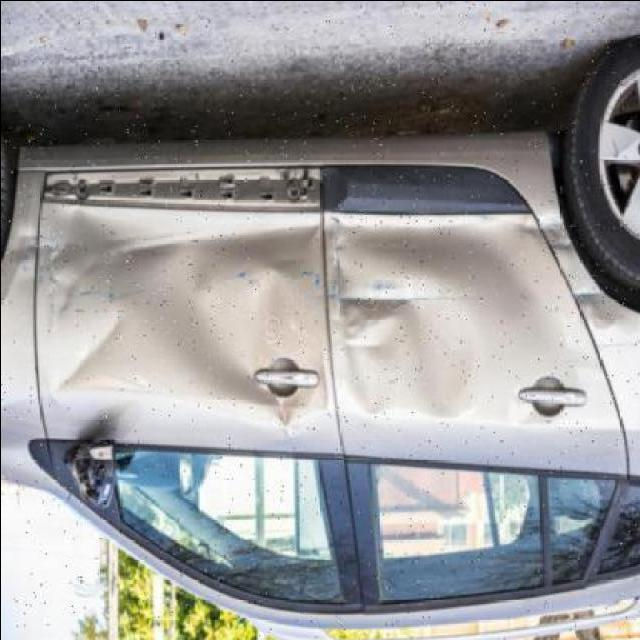doorouter-dent: (44, 203, 324, 452), (330, 208, 560, 462)
quaterpanel-dent: (580, 143, 640, 334)
